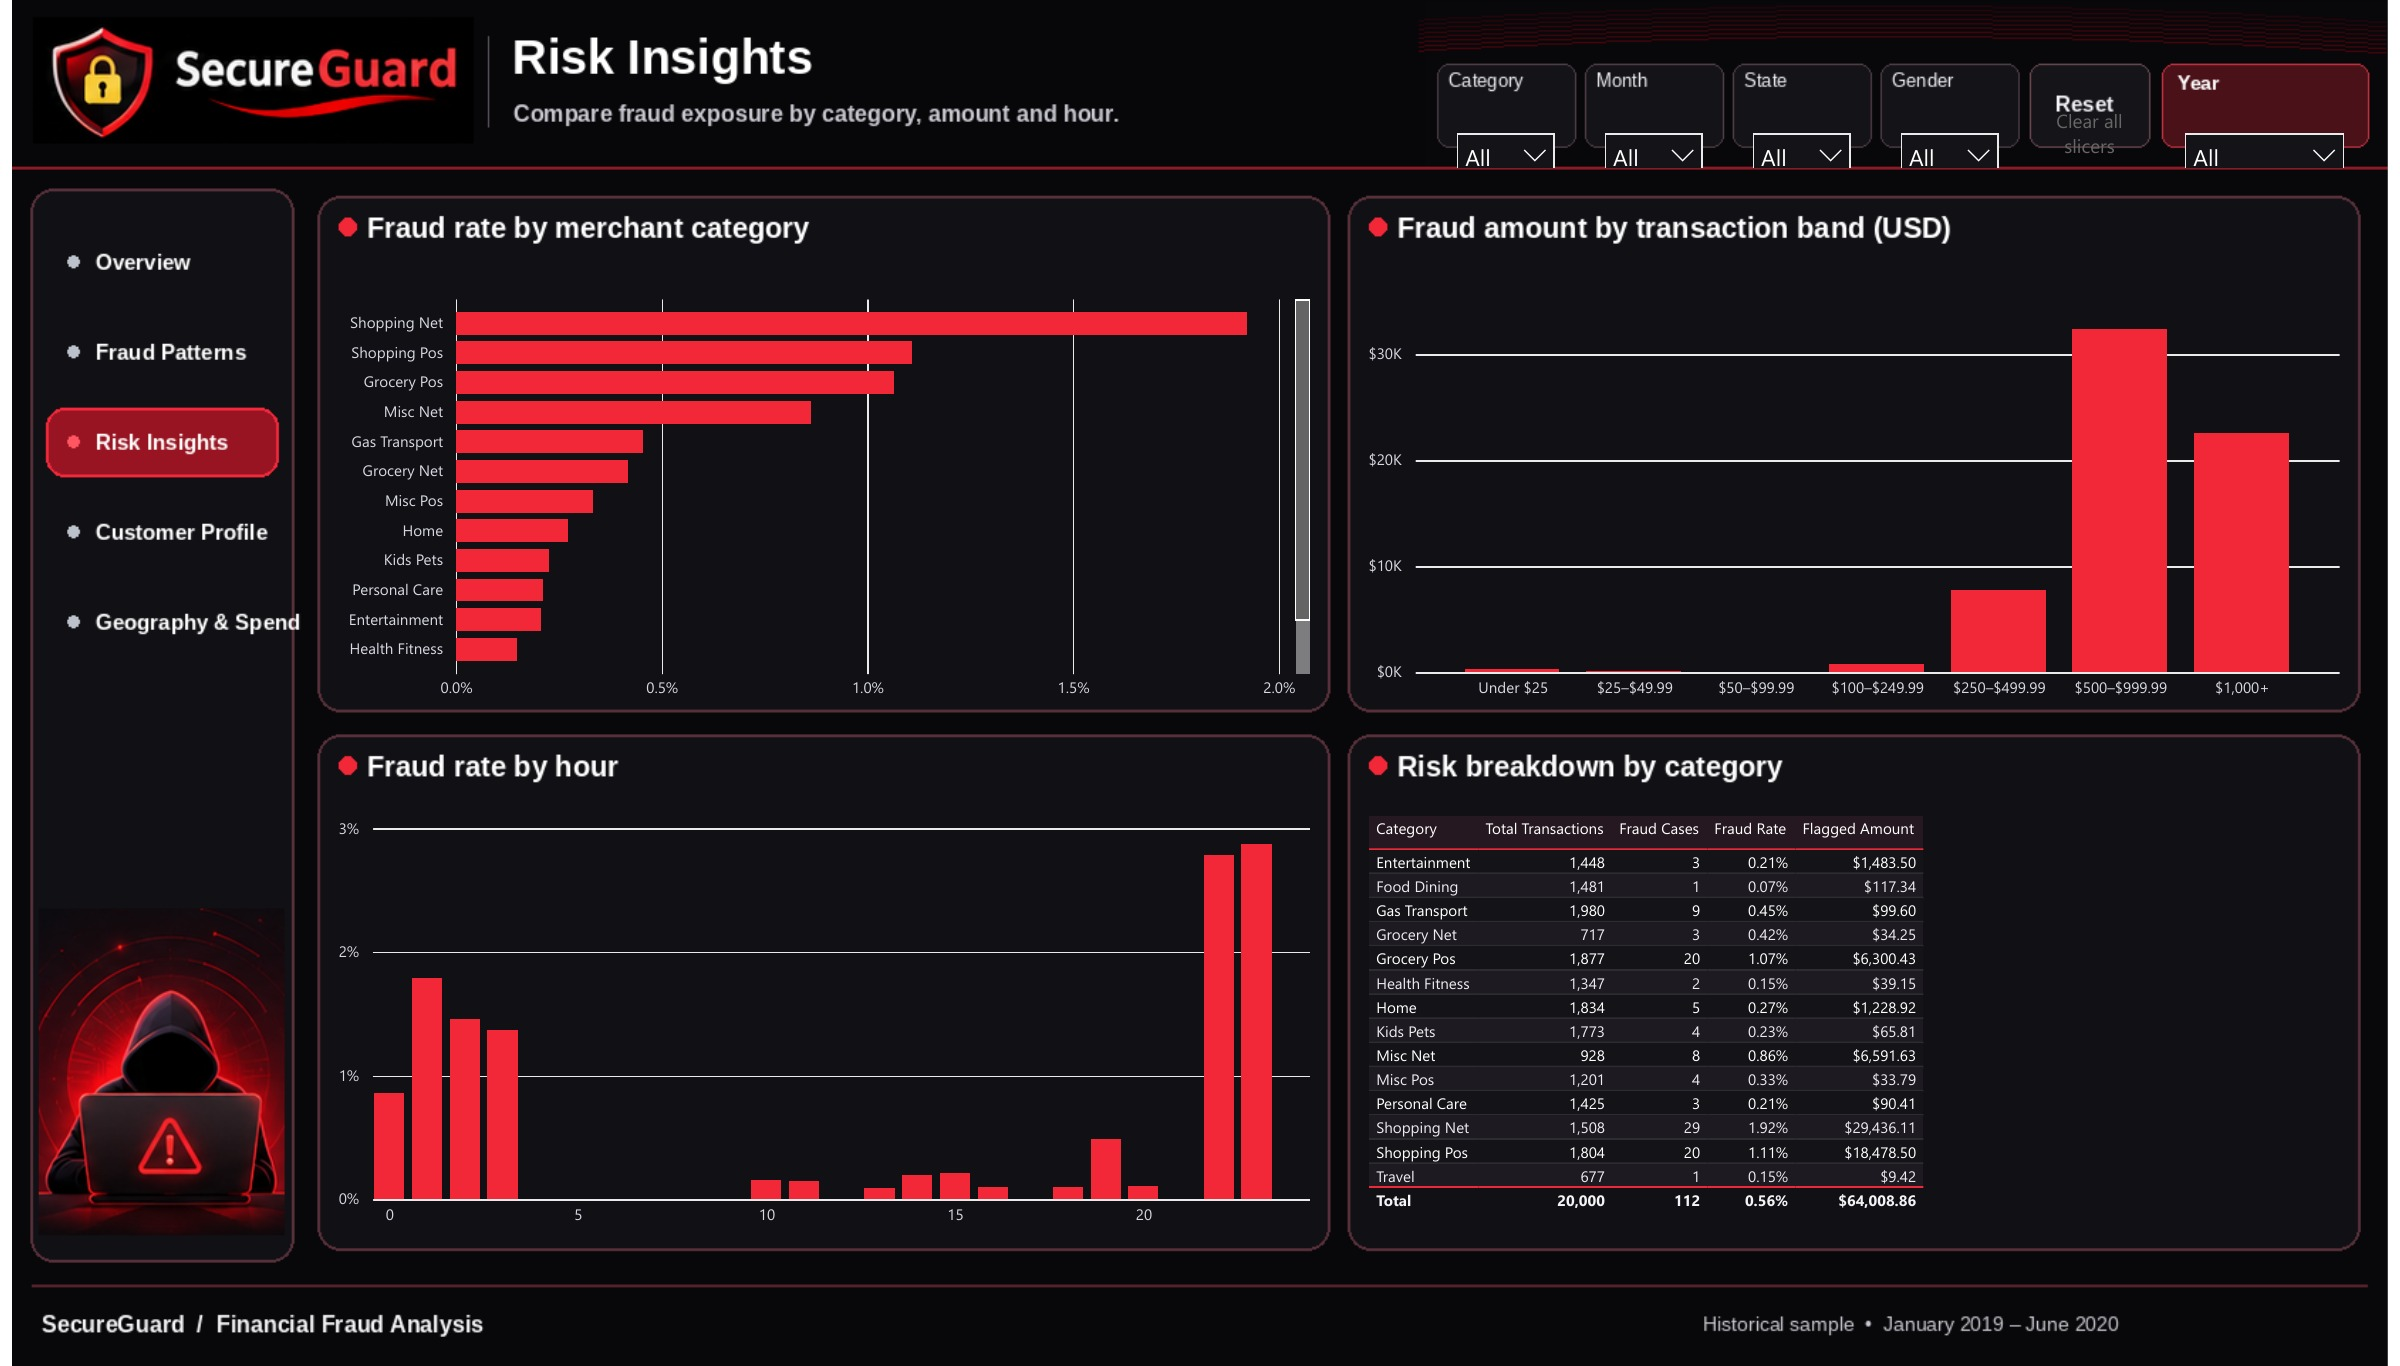

The page's visual inventory and layout, read from the dashboard file:
{"tool":"powerbi","page":{"name":"Risk Insights","canvas":[1672,941],"ordinal":2},"visuals":[{"type":"slicer","fields":{"Values":["Transactions.Category"]},"box":[1007,64,89,34],"z":9000},{"type":"slicer","fields":{"Values":["Transactions.Month"]},"box":[1111,64,89,34],"z":10000},{"type":"slicer","fields":{"Values":["Transactions.State"]},"box":[1215,64,89,34],"z":11000},{"type":"slicer","fields":{"Values":["Transactions.Gender"]},"box":[1319,64,89,34],"z":12000},{"type":"actionButton","box":[1420,44,84,57],"z":14000},{"type":"barChart","fields":{"Category":["Transactions.Category"],"Y":["Transactions.Fraud Rate"]},"box":[224,178,694,303],"z":16000},{"type":"columnChart","fields":{"Category":["Transactions.Amount Band"],"Y":["Transactions.Flagged Amount"]},"box":[949,178,694,303],"z":18000},{"type":"columnChart","fields":{"Category":["Transactions.Hour"],"Y":["Transactions.Fraud Rate"]},"box":[224,549,694,303],"z":20000},{"type":"tableEx","fields":{"Values":["Transactions.Category","Transactions.Total Transactions","Transactions.Fraud Cases","Transactions.Fraud Rate","Transactions.Flagged Amount"]},"box":[949,549,694,303],"z":22000},{"type":"actionButton","box":[24,157,163,47],"z":95000},{"type":"actionButton","box":[24,219,163,47],"z":95001},{"type":"actionButton","box":[24,281,163,47],"z":95002},{"type":"actionButton","box":[24,343,163,47],"z":95003},{"type":"actionButton","box":[24,405,163,47],"z":95004},{"type":"slicer","fields":{"Values":["Transactions.Year"]},"box":[1519,64,132,34],"z":95150}]}

Visuals, with their boxes in screenshot pixels (x1, y1, x2, y2), scaled from the page's 1672x941 canvas onto the 2400x1366 screenshot:
slicer - Transactions.Category: detection(1445, 93, 1573, 142)
slicer - Transactions.Month: detection(1595, 93, 1722, 142)
slicer - Transactions.State: detection(1744, 93, 1872, 142)
slicer - Transactions.Gender: detection(1893, 93, 2021, 142)
actionButton: detection(2038, 64, 2159, 147)
barChart - Transactions.Category x Transactions.Fraud Rate: detection(322, 258, 1318, 698)
columnChart - Transactions.Amount Band x Transactions.Flagged Amount: detection(1362, 258, 2358, 698)
columnChart - Transactions.Hour x Transactions.Fraud Rate: detection(322, 797, 1318, 1237)
tableEx - Transactions.Category x Transactions.Total Transactions: detection(1362, 797, 2358, 1237)
actionButton: detection(34, 228, 268, 296)
actionButton: detection(34, 318, 268, 386)
actionButton: detection(34, 408, 268, 476)
actionButton: detection(34, 498, 268, 566)
actionButton: detection(34, 588, 268, 656)
slicer - Transactions.Year: detection(2180, 93, 2370, 142)
